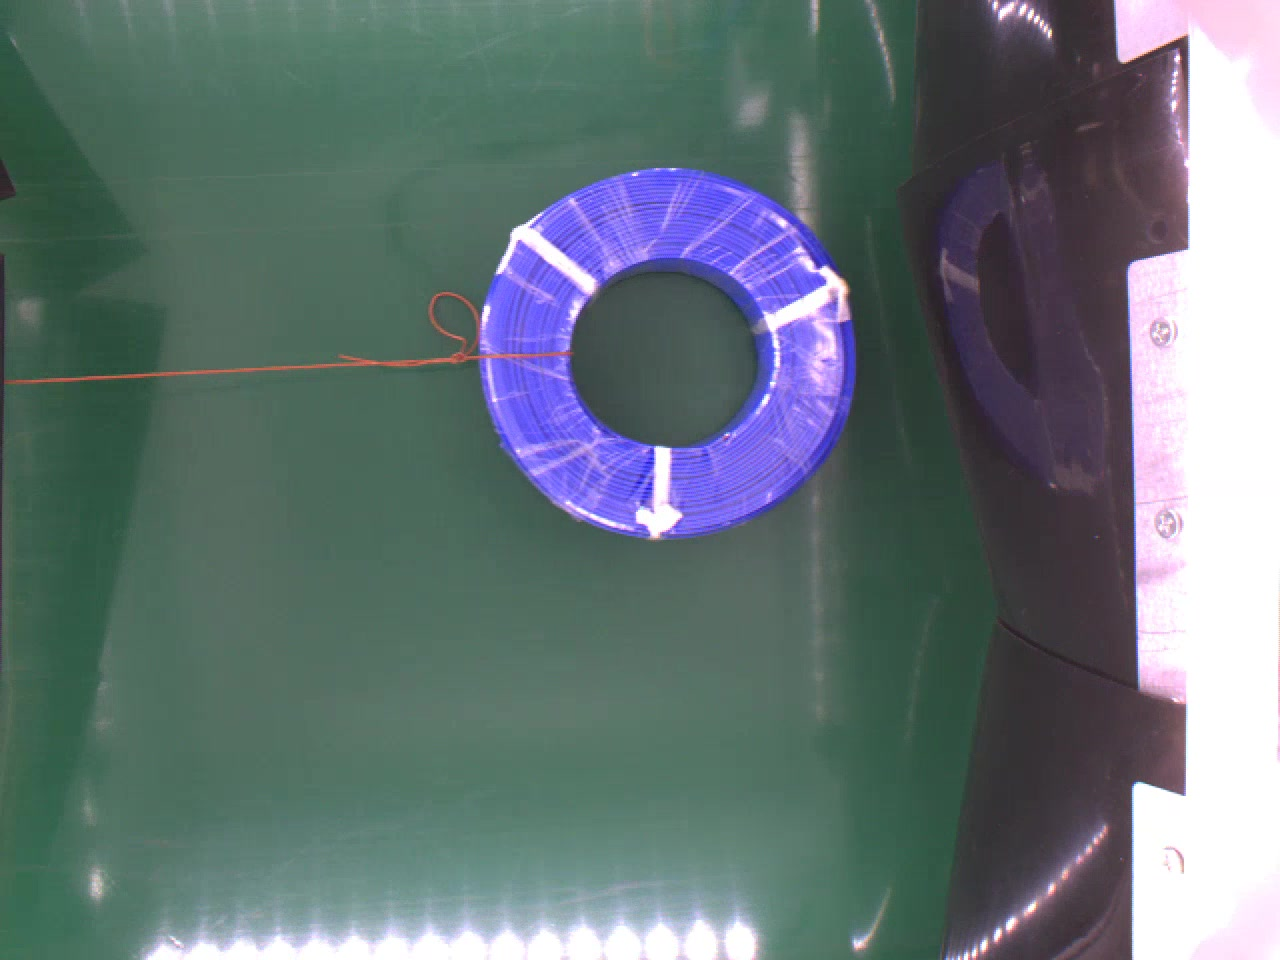blue: (479, 163, 856, 537)
